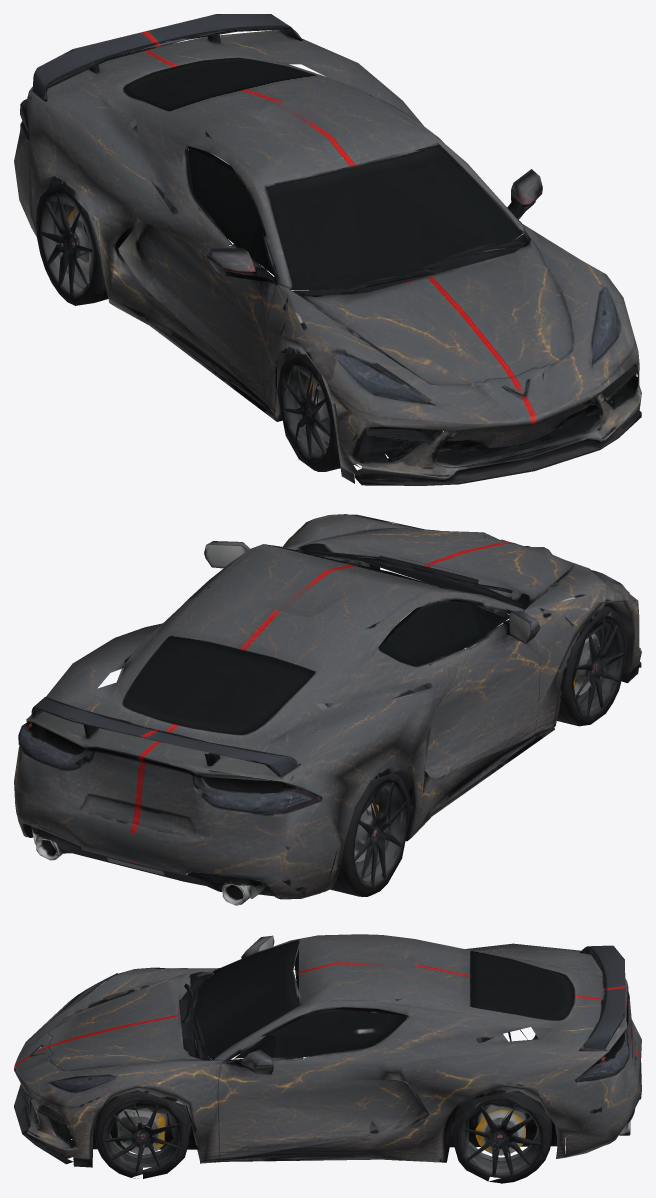
File: eltesla.glb
3 renders of one model, top to bottom at view 1: azimuth 30°, elevation 25°; view 2: azimuth 150°, elevation 25°; view 3: azimuth 270°, elevation 25°, orthographic. The views are drawn at different scales.
Parts seen in each view (by area): view 1: ba9477d0_a2cd_43be_8818_dda4f16c37b6; view 2: ba9477d0_a2cd_43be_8818_dda4f16c37b6; view 3: ba9477d0_a2cd_43be_8818_dda4f16c37b6.
Part boxes in pixels (box(x1,y1,x2,y2)): ba9477d0_a2cd_43be_8818_dda4f16c37b6: box(14, 14, 641, 485); ba9477d0_a2cd_43be_8818_dda4f16c37b6: box(14, 514, 641, 905); ba9477d0_a2cd_43be_8818_dda4f16c37b6: box(14, 934, 641, 1183).
Bounding box in the file's own units: 0.4702 × 0.2843 × 0.998.
Materials: 5 (5 with a texture image).
